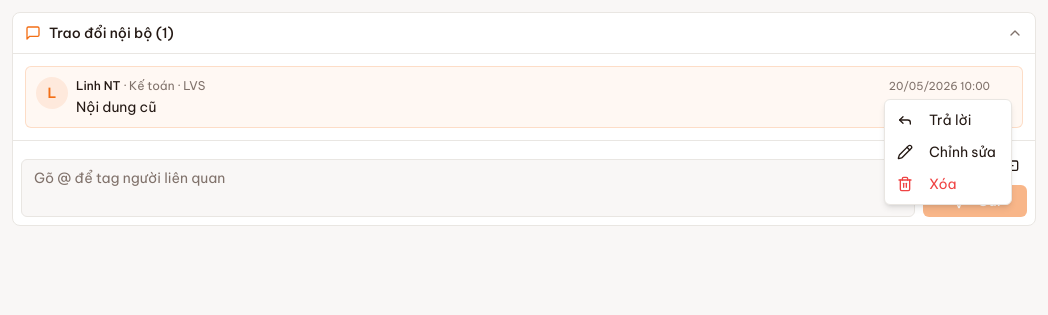
Test: InternalChat — chỉnh sửa tin nhắn của mình › cập nhật DB và hiển thị (đã chỉnh sửa)
Earlier steps of the test are not shown.
Click the menu item "Chỉnh sửa".
click(946, 152)  # box [897, 143, 996, 161]
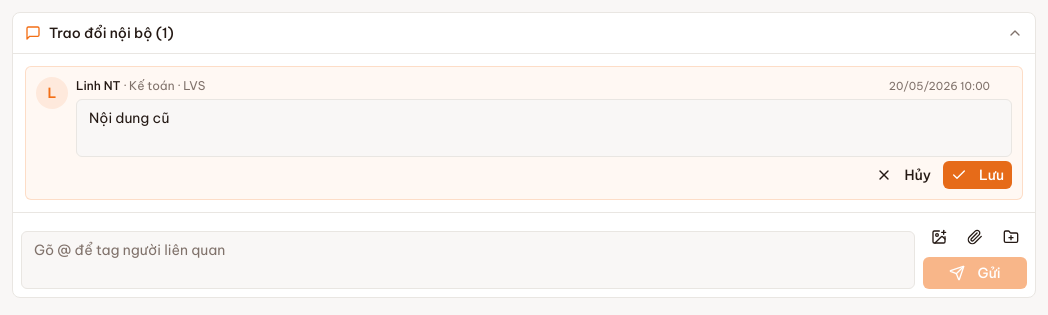
Replace the text in the 1st text box with "Nội dung mới" at (544, 128), box [76, 99, 1012, 157]
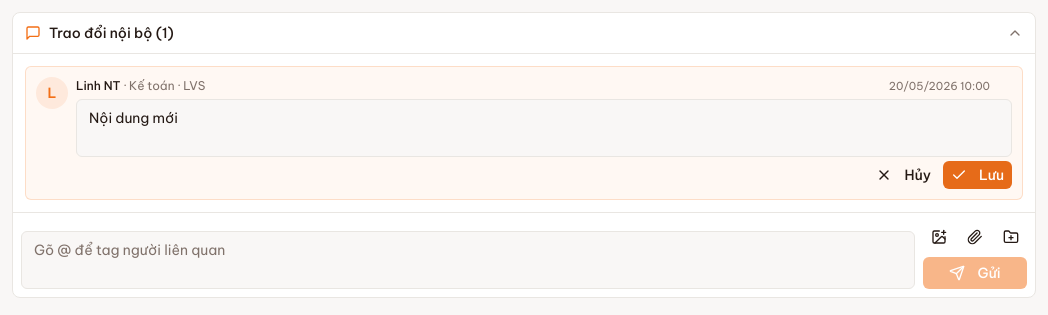
Click the button "Lưu".
click(978, 175)  # box [943, 161, 1012, 189]
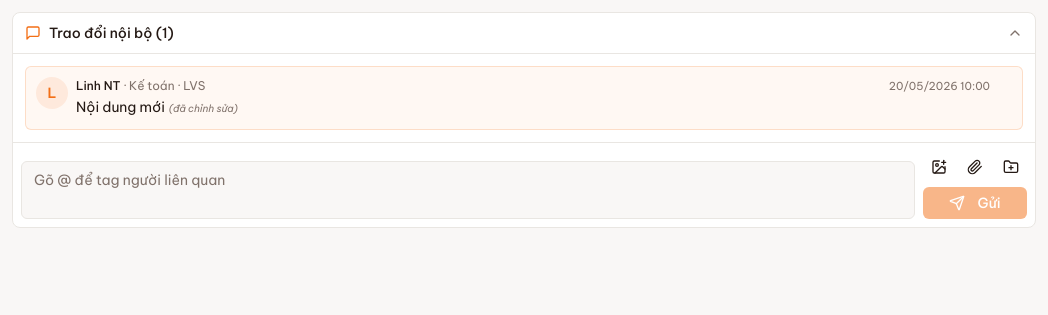
Expected: the text "(đã chỉnh sửa)" is shown, [169, 102, 238, 115]
